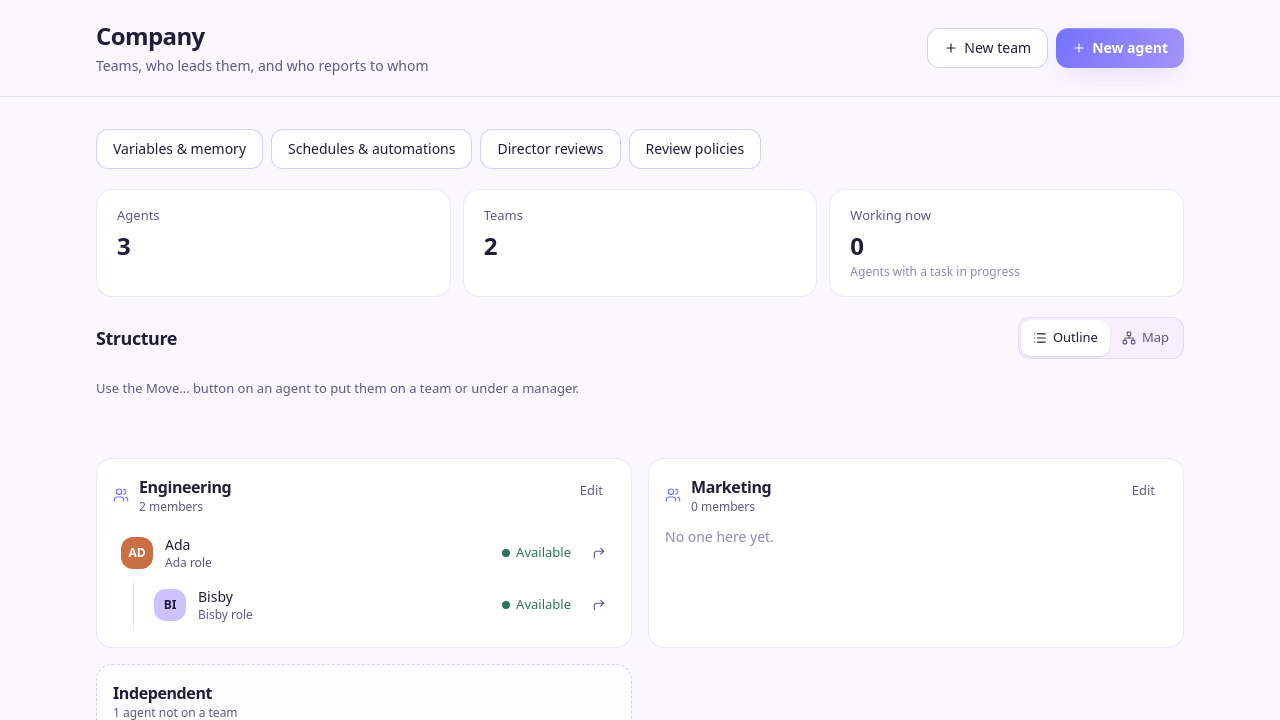
it: Company page — Move… menu › does nothing when the chosen spot is where the agent already is
Click the button named "Move Bisby" at (599, 605), box [583, 589, 615, 621]
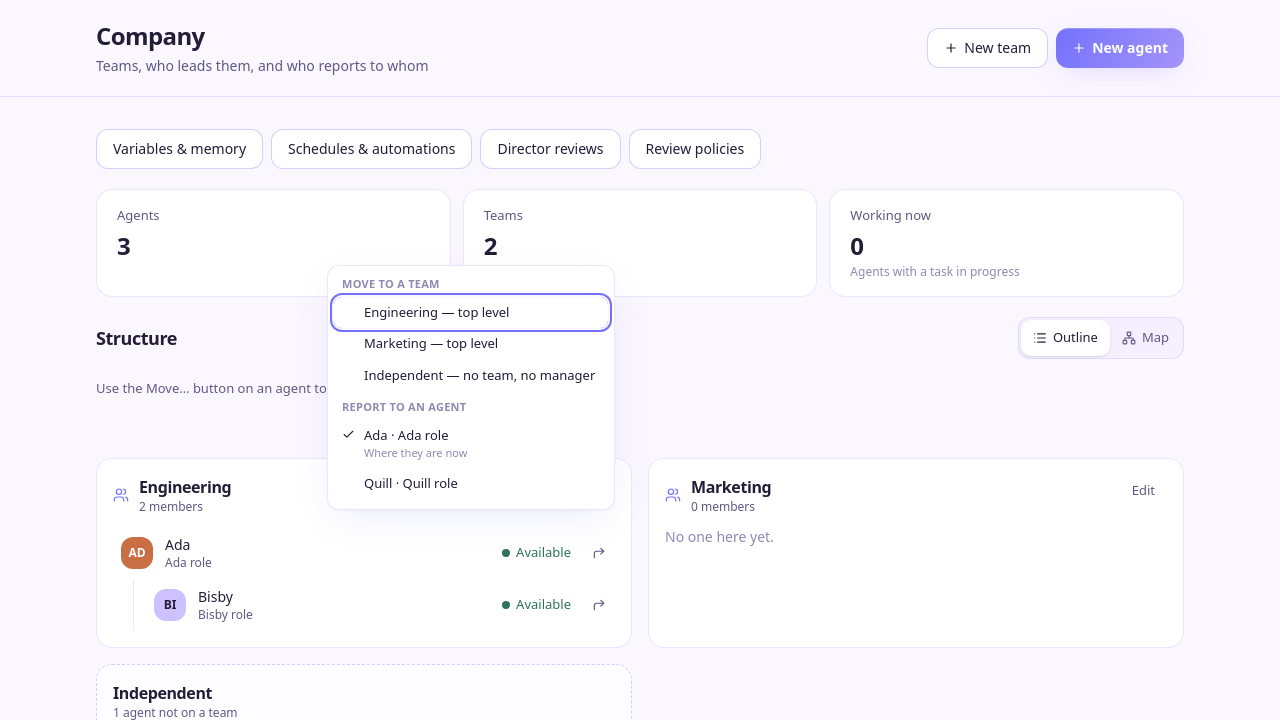
Click the menu item "Ada · Ada role Where they are now" at (406, 434), box [334, 420, 608, 468]
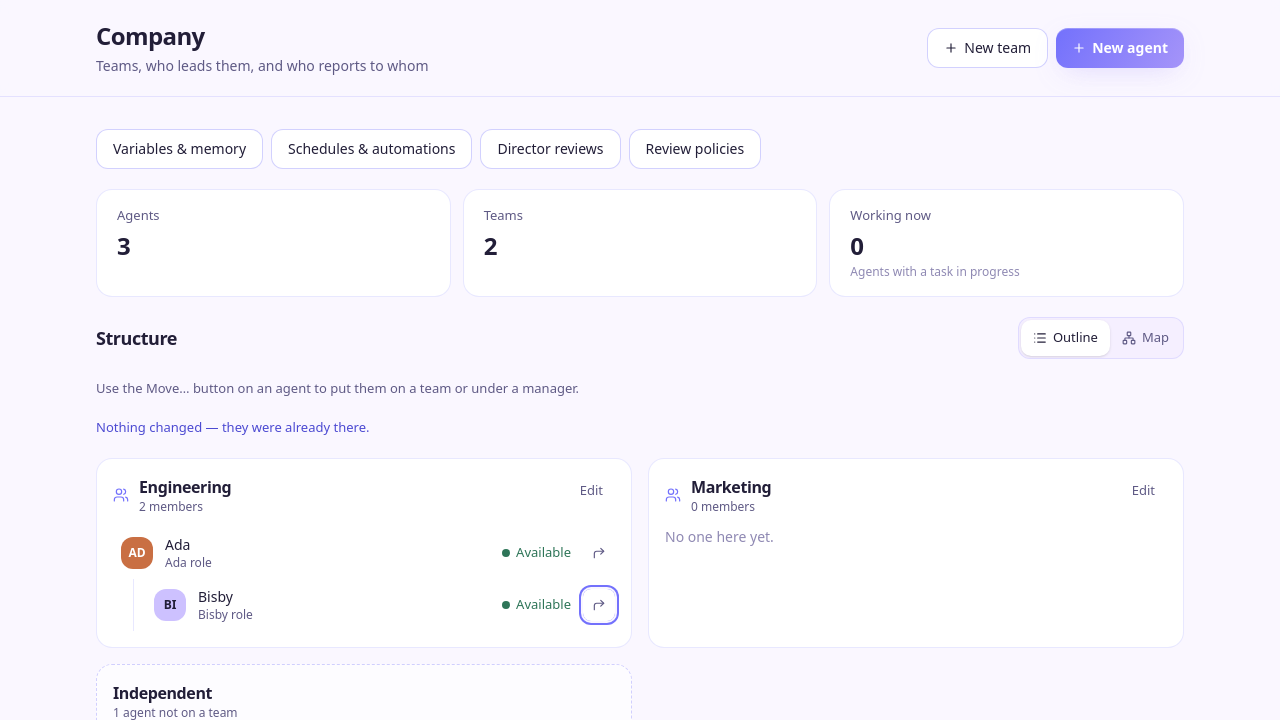
Expected: the message shows "already there", [96, 418, 370, 436]
